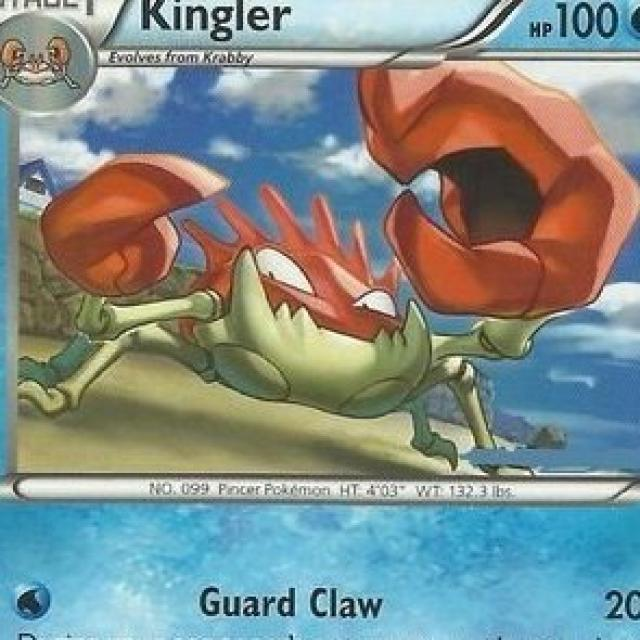Kingler: (42, 148, 518, 421)
